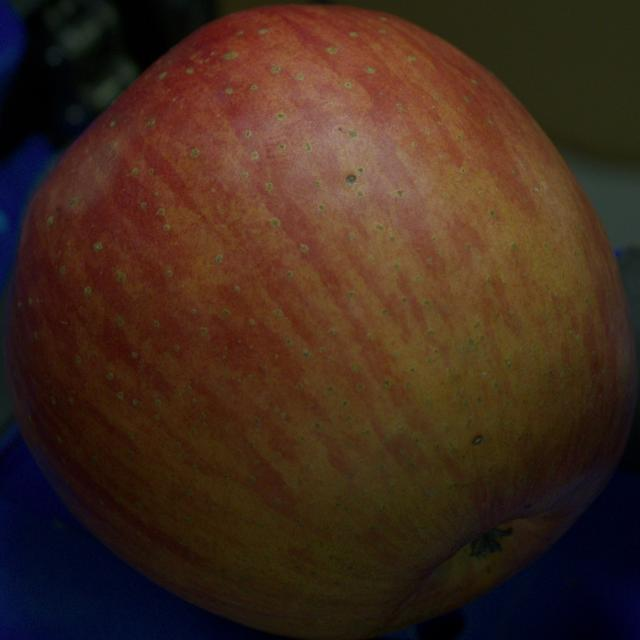apple: (6, 6, 637, 639)
pest: (345, 174, 356, 183), (474, 436, 483, 445)
